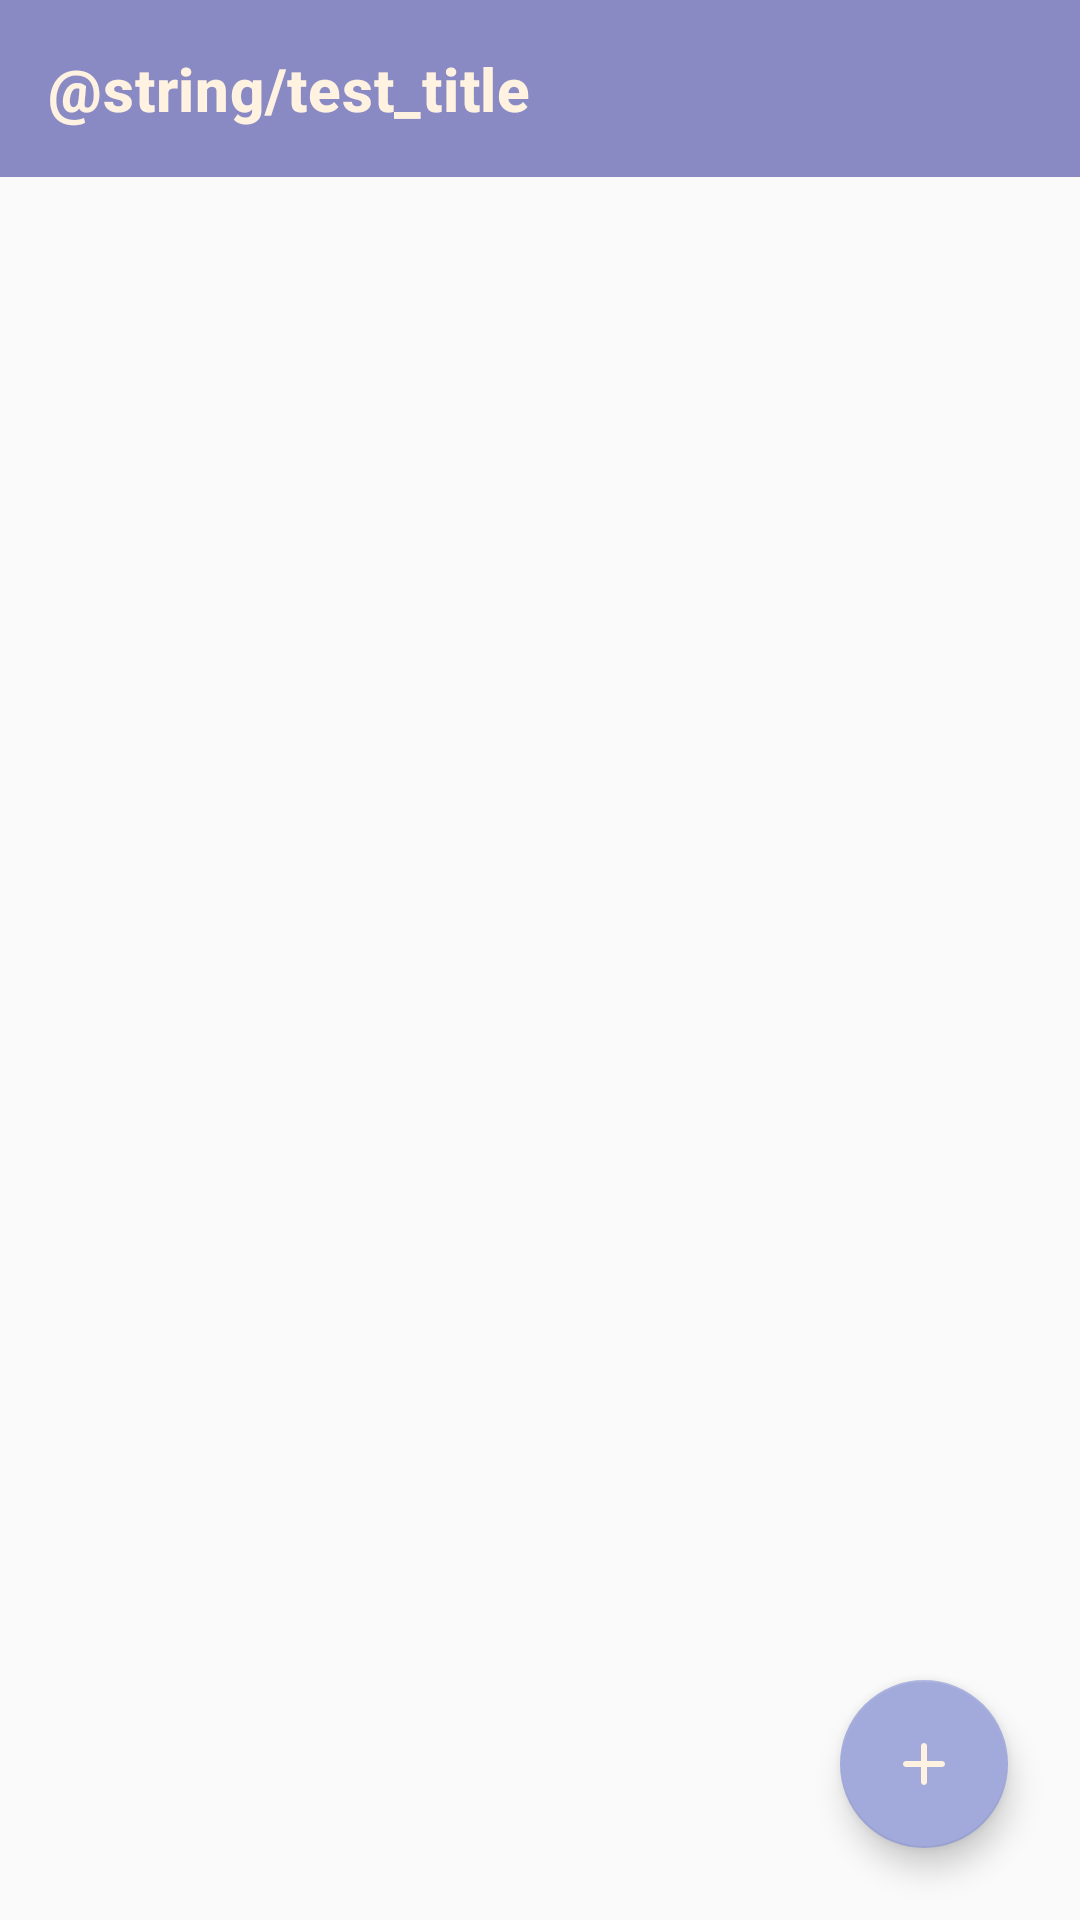

Where icons sit on this 1080px x 1920px app screen, as (x1, y1, x2, y2):
Bouton pour ajouter un nouveau bloc: (840, 1680, 1008, 1848)
